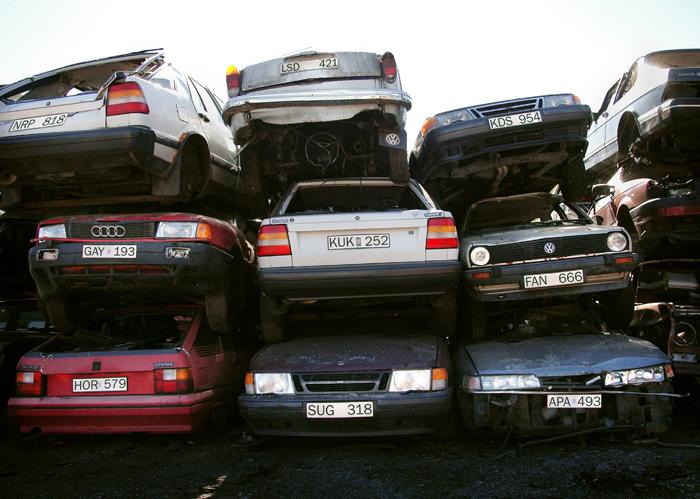license-plates: (523, 267, 585, 290), (8, 113, 69, 133), (279, 56, 339, 76), (327, 233, 391, 251), (487, 110, 543, 130), (81, 244, 138, 259)
